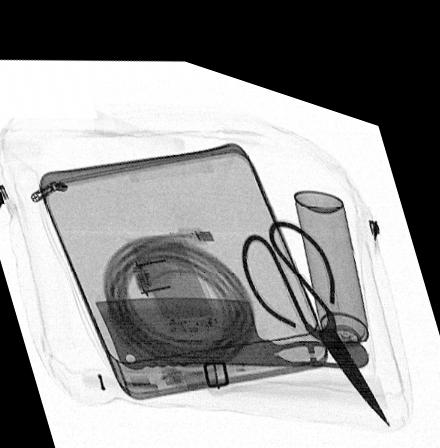Knife: (93, 283, 370, 362)
Powerbank: (124, 223, 225, 325)
Scissors: (241, 202, 390, 402)
Sprayer: (296, 170, 377, 351)
